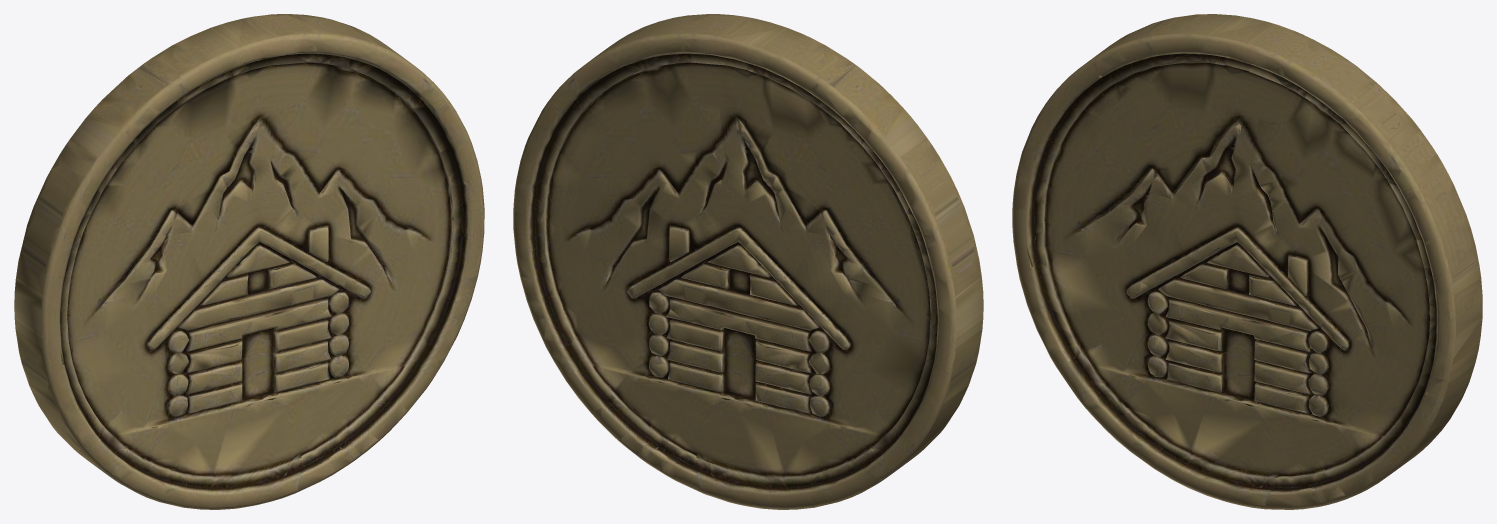
The model's file is medallion_lodge.glb.
3 renders of one model, left to right at view 1: azimuth 30°, elevation 25°; view 2: azimuth 150°, elevation 25°; view 3: azimuth 330°, elevation 25°, orthographic.
Visible parts, largest first — view 1: Medallion_lodge; view 2: Medallion_lodge; view 3: Medallion_lodge.
Boxes of the visible parts, bbox=[...] form: Medallion_lodge: bbox=[14, 14, 484, 509]; Medallion_lodge: bbox=[513, 14, 983, 509]; Medallion_lodge: bbox=[1012, 14, 1482, 509].
Bounding box in the file's own units: 0.06 × 0.06 × 0.00725.
1 material, 1 textured.
